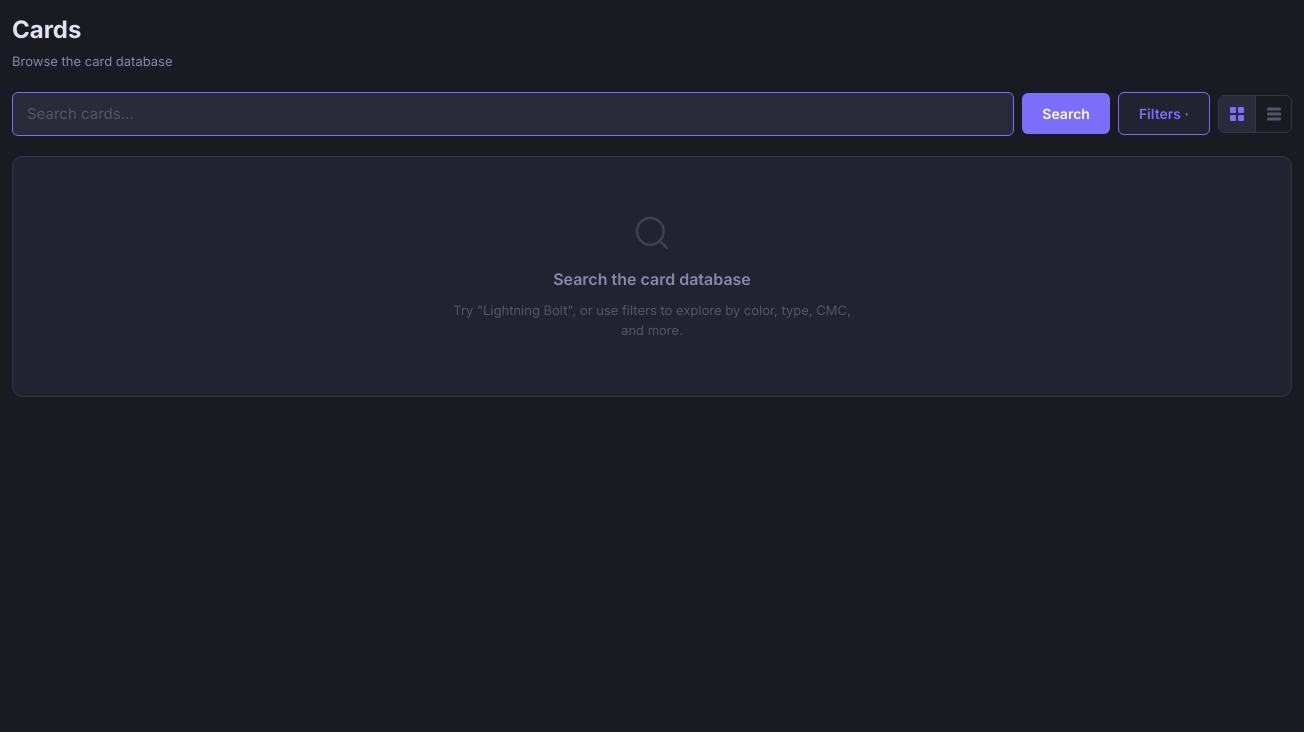
Test: CardsPage › shows filters panel when toggled
This screenshot has width=1304, height=732.
Click the button "Filters ·". click: (1164, 114)
box: [1118, 92, 1210, 135]
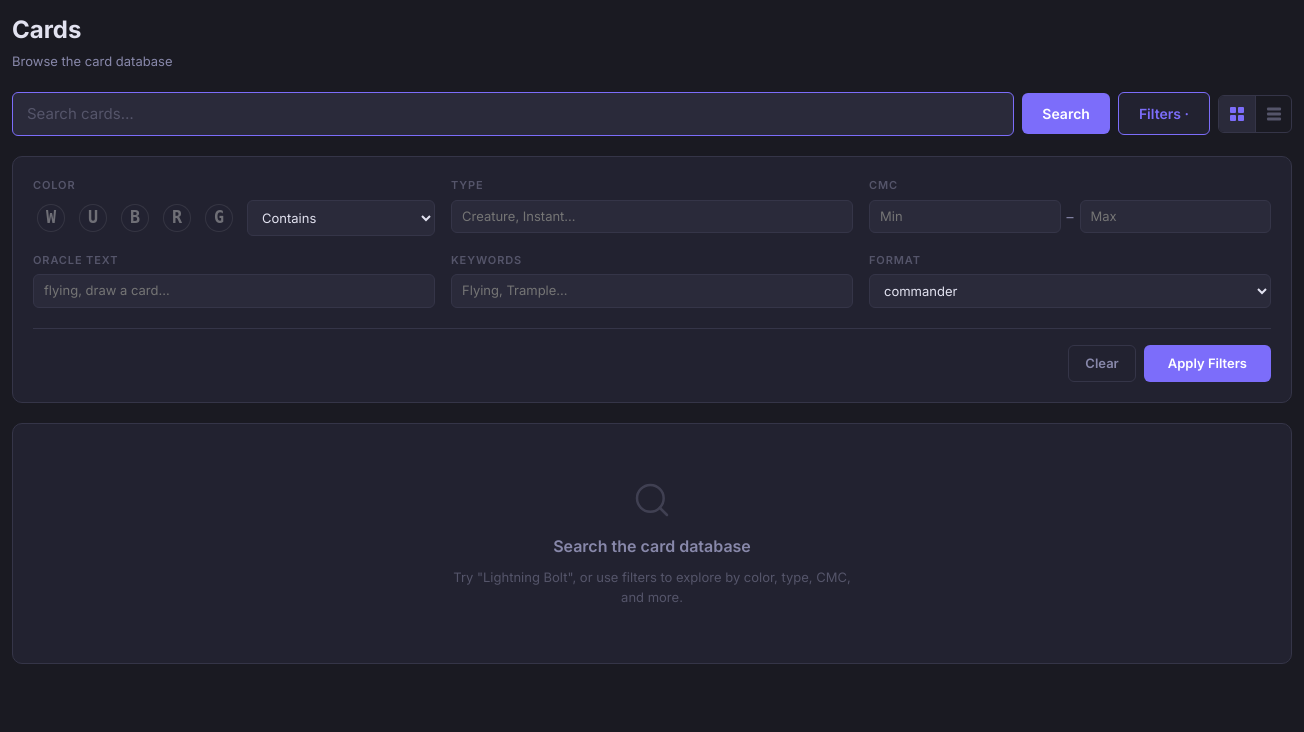
Expected: the button "Apply Filters" is shown, [1144, 344, 1271, 382]
